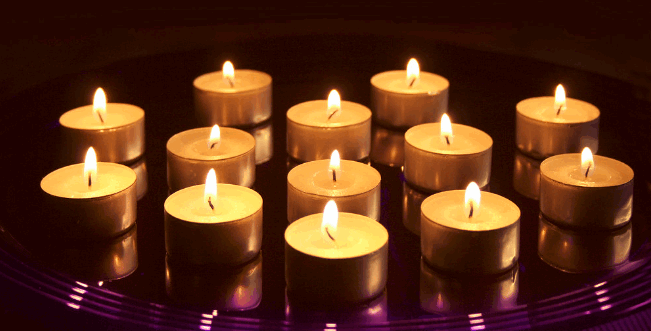Fire: (71, 148, 114, 200), (196, 167, 231, 220), (313, 195, 347, 244), (456, 178, 492, 221), (208, 51, 249, 88), (430, 111, 465, 150), (571, 147, 604, 188), (401, 51, 432, 94), (325, 144, 359, 182), (86, 79, 113, 126), (322, 86, 354, 123), (200, 116, 228, 156), (551, 80, 579, 116)
